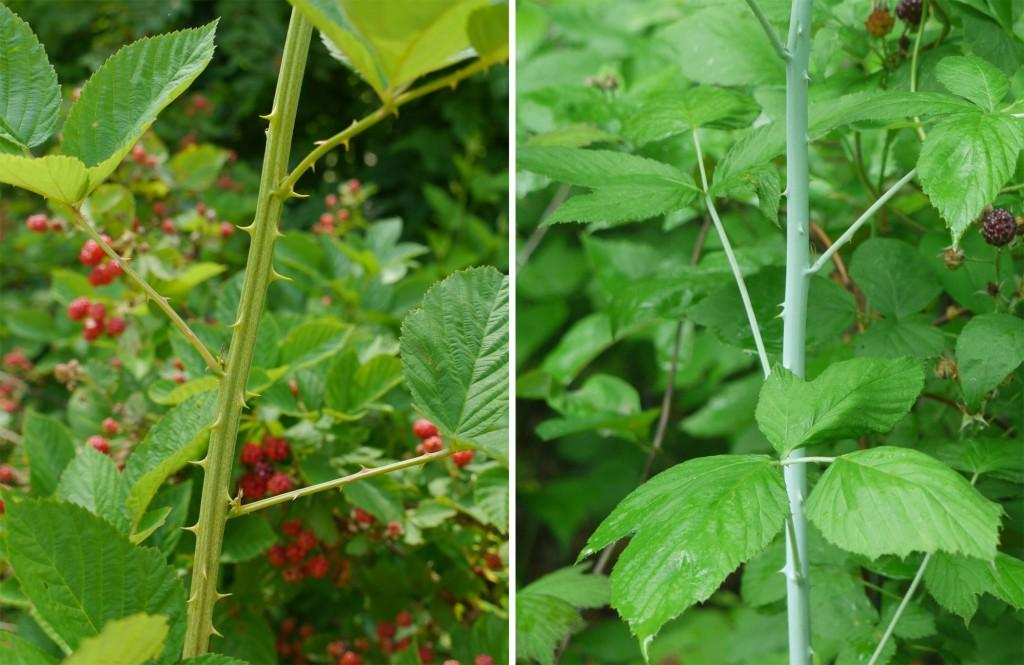Raspberry leaf: (600, 456, 782, 650), (54, 11, 218, 169), (806, 443, 1011, 567), (405, 258, 514, 456), (751, 351, 927, 450), (911, 109, 1021, 251), (515, 141, 699, 222), (712, 105, 805, 200), (842, 90, 962, 130)
